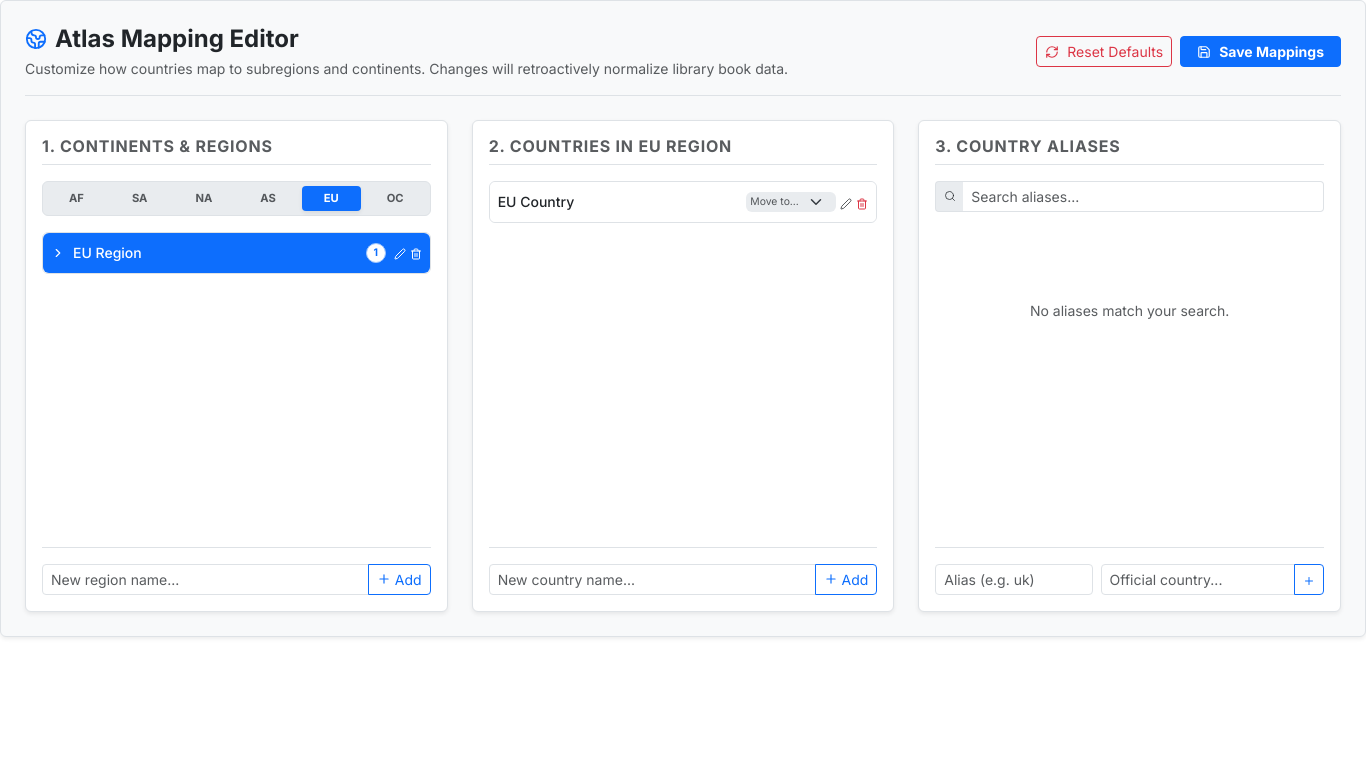
MappingsEditor Component › updates regions when continent changes
Expected: the text "EU Region" is shown, [73,242,142,263]
Change to South America (SA)
Step 1. Click the button "SA" → point(140, 198), box [110,186,169,211]
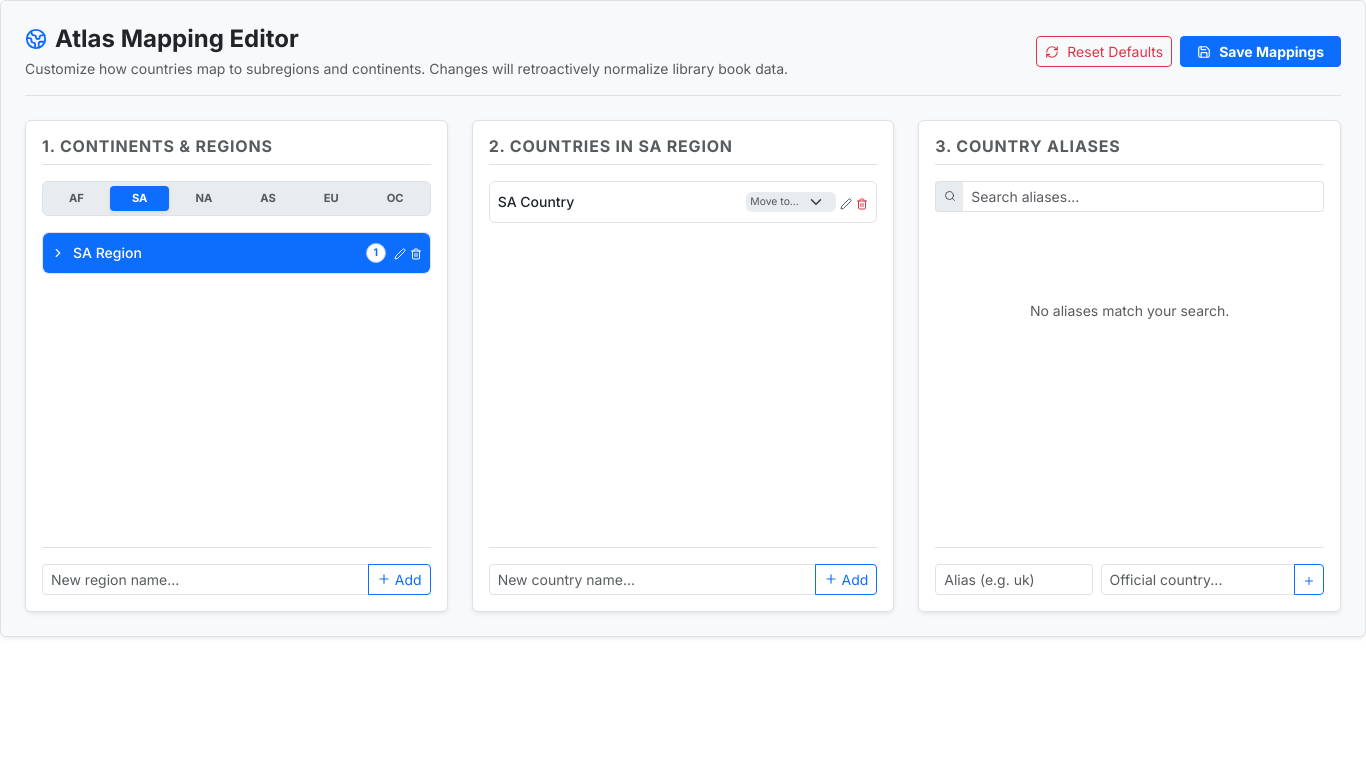
Expected: the text "SA Region" is shown, [73,242,142,263]
Expected: the text "EU Region" is gone
